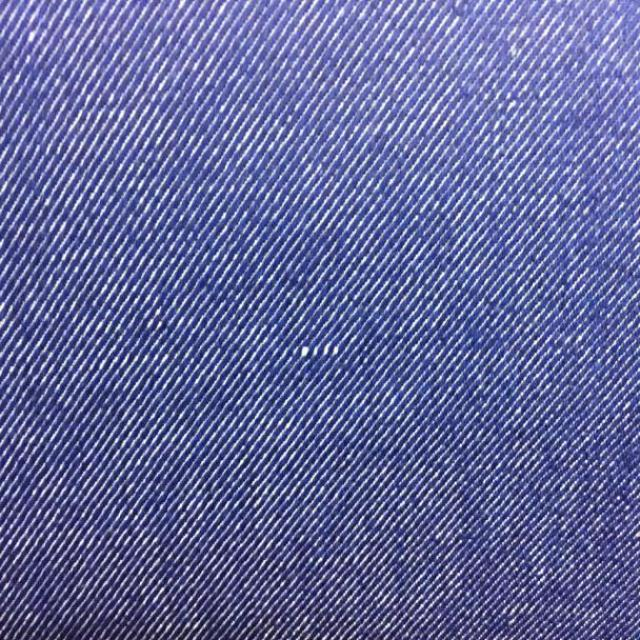Knot: (294, 342, 341, 359)
